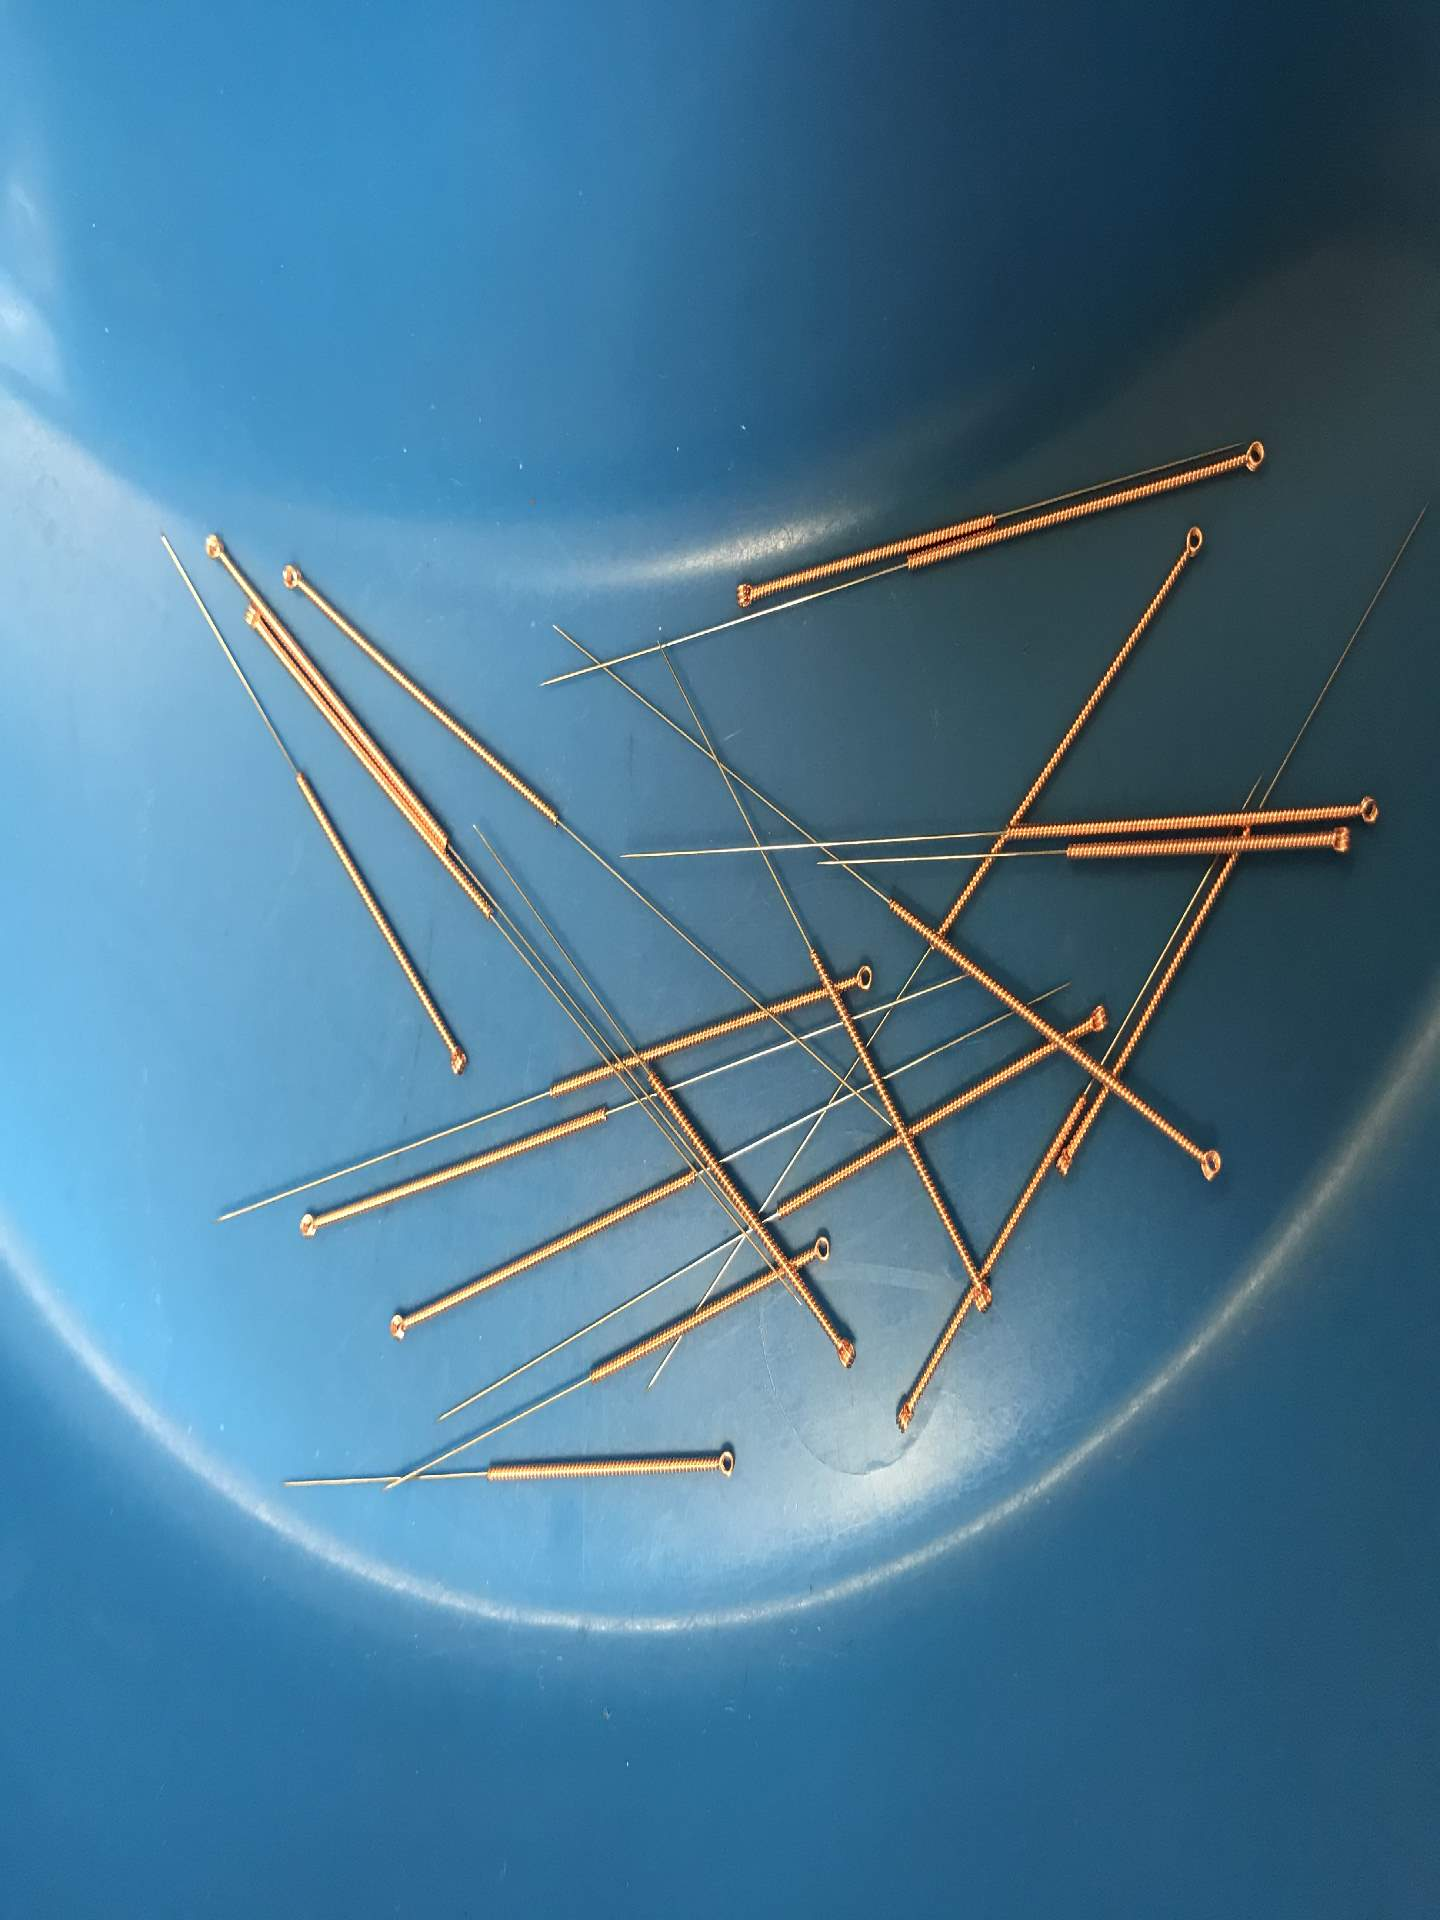needle: (1187, 1138, 1230, 1188), (1233, 429, 1274, 481), (1174, 516, 1212, 565), (1349, 789, 1389, 831), (826, 1330, 862, 1376), (440, 1039, 476, 1082), (708, 1441, 746, 1482), (272, 555, 309, 597), (195, 526, 231, 568), (1321, 822, 1358, 862), (380, 1305, 417, 1344), (802, 1228, 838, 1268), (891, 1391, 921, 1438), (1082, 998, 1115, 1039), (293, 1206, 327, 1246), (846, 958, 879, 996), (728, 578, 762, 612), (1051, 1144, 1077, 1185), (970, 1277, 995, 1317), (237, 602, 262, 633)
